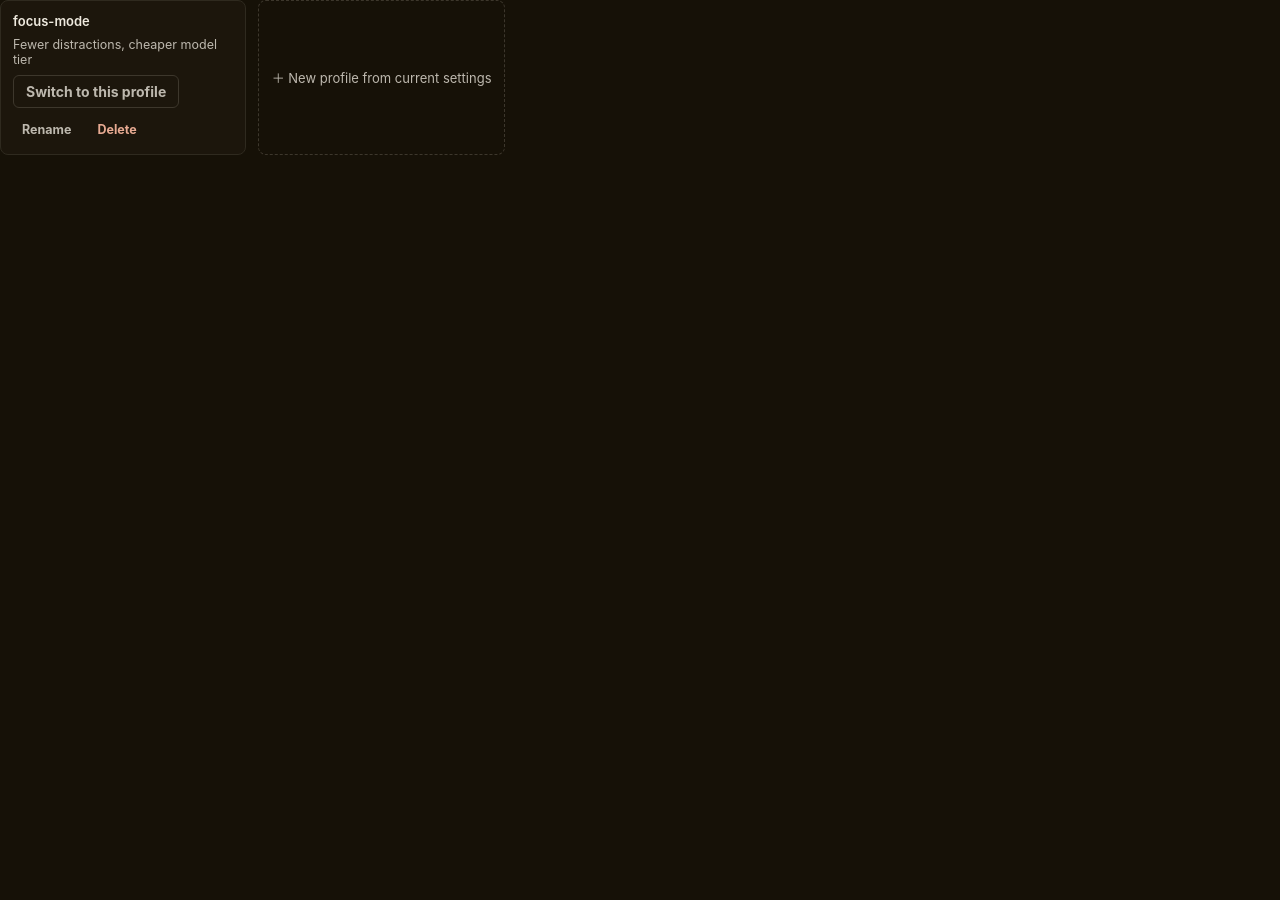
ProfilesSection › cancelling the dialog closes it without switching
Click the button "Switch to this profile".
click(96, 92)  # box [13,75,179,108]
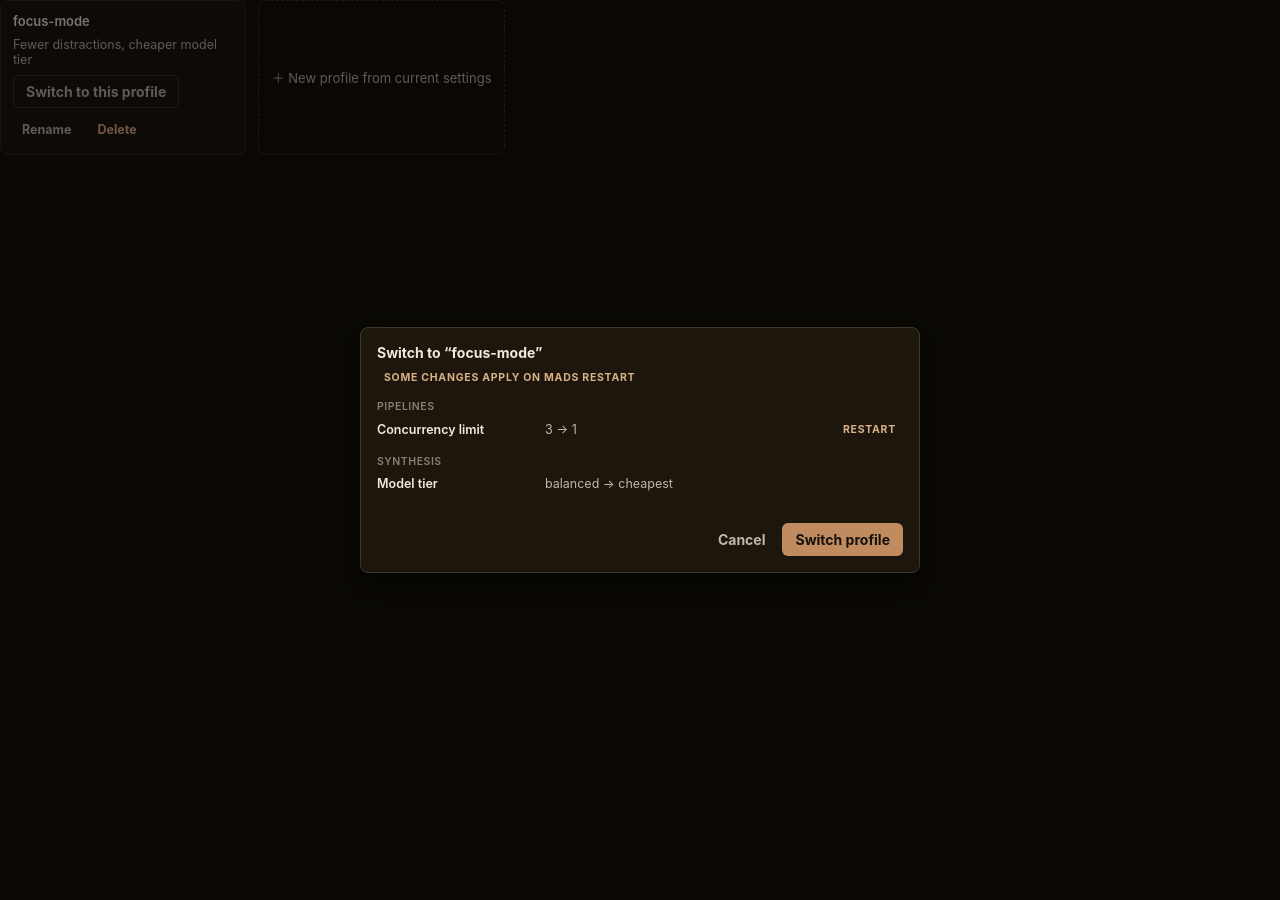
Click the button "Cancel".
click(742, 540)  # box [709,523,774,556]
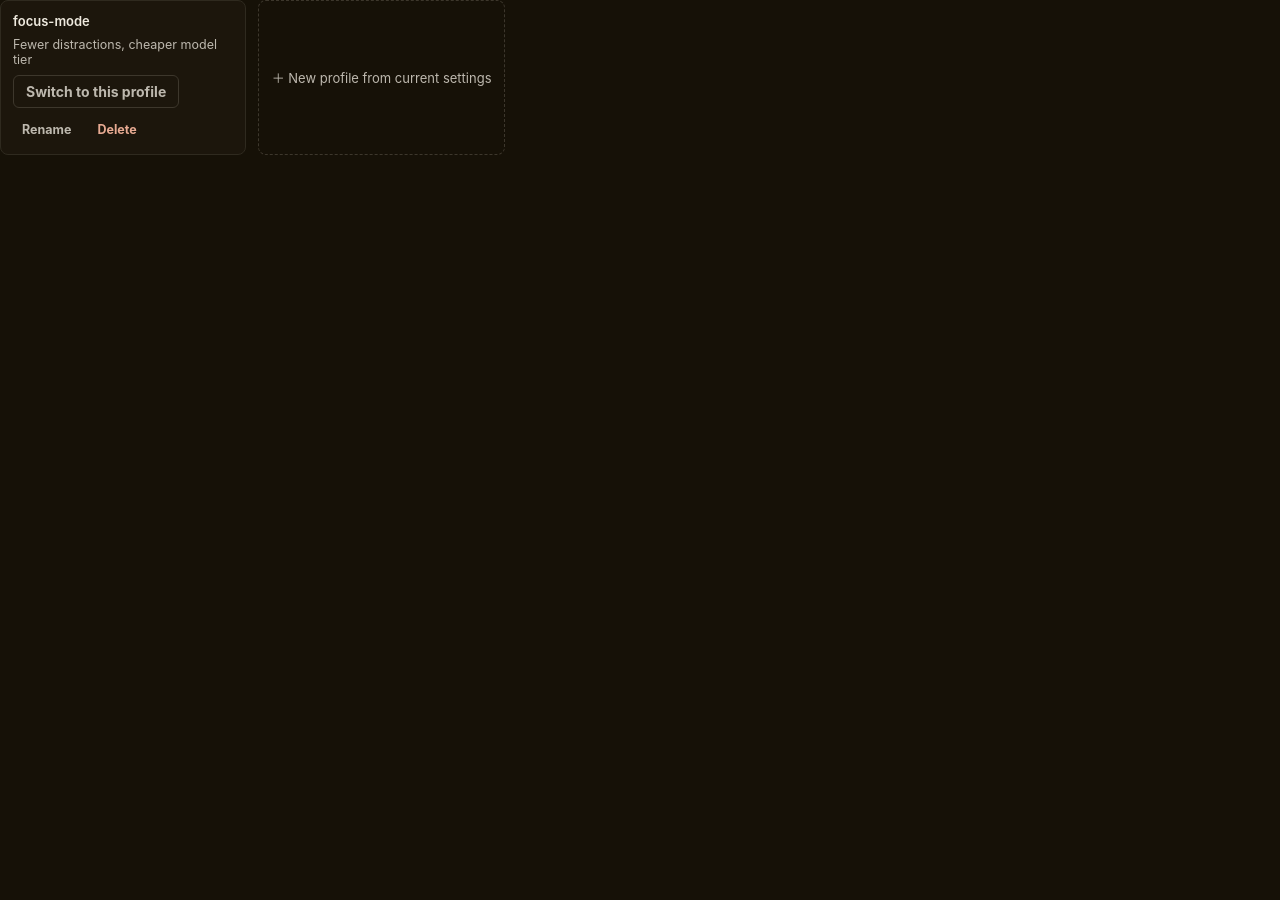
expect the dialog is gone: met
